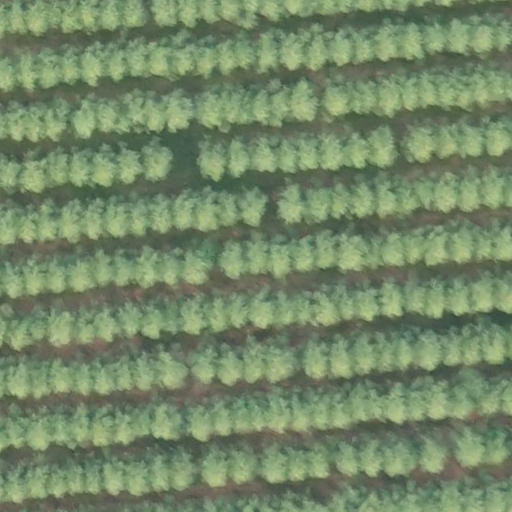eucalipto: (309, 281, 354, 327), (269, 177, 310, 227), (383, 433, 420, 483), (364, 124, 401, 172), (177, 241, 217, 285), (140, 140, 178, 185), (194, 134, 230, 181), (224, 442, 262, 485), (415, 432, 451, 476), (453, 424, 486, 471), (276, 26, 310, 71), (300, 333, 331, 382), (150, 401, 186, 443), (161, 90, 196, 133), (42, 306, 77, 349), (215, 236, 249, 280), (198, 444, 230, 490), (337, 227, 369, 273), (68, 403, 100, 449), (236, 184, 270, 227), (401, 126, 438, 165), (144, 445, 174, 493), (59, 195, 87, 246), (330, 437, 364, 479), (355, 432, 386, 478), (144, 37, 176, 81), (169, 445, 201, 489), (303, 439, 337, 480), (154, 349, 187, 391), (292, 76, 322, 122), (66, 250, 98, 293), (248, 131, 279, 175), (215, 339, 244, 386), (100, 455, 133, 496), (447, 220, 477, 265), (350, 330, 379, 376), (125, 454, 154, 500), (116, 138, 143, 187), (41, 146, 72, 188), (420, 225, 451, 266), (46, 355, 77, 396), (92, 142, 119, 189), (186, 401, 217, 441), (444, 272, 472, 316), (377, 278, 407, 319), (260, 445, 289, 487), (312, 227, 340, 270), (242, 232, 270, 275), (433, 168, 460, 212), (81, 196, 107, 241), (211, 35, 238, 77), (92, 303, 121, 342), (107, 42, 133, 84), (231, 31, 259, 70), (189, 346, 216, 386), (400, 227, 427, 267), (330, 179, 355, 222), (434, 123, 462, 161), (117, 299, 144, 338), (420, 18, 448, 55), (226, 289, 253, 327), (295, 132, 321, 170), (94, 405, 118, 446), (417, 70, 440, 112), (44, 254, 68, 294), (74, 358, 98, 398), (148, 194, 173, 232), (400, 72, 423, 113)
